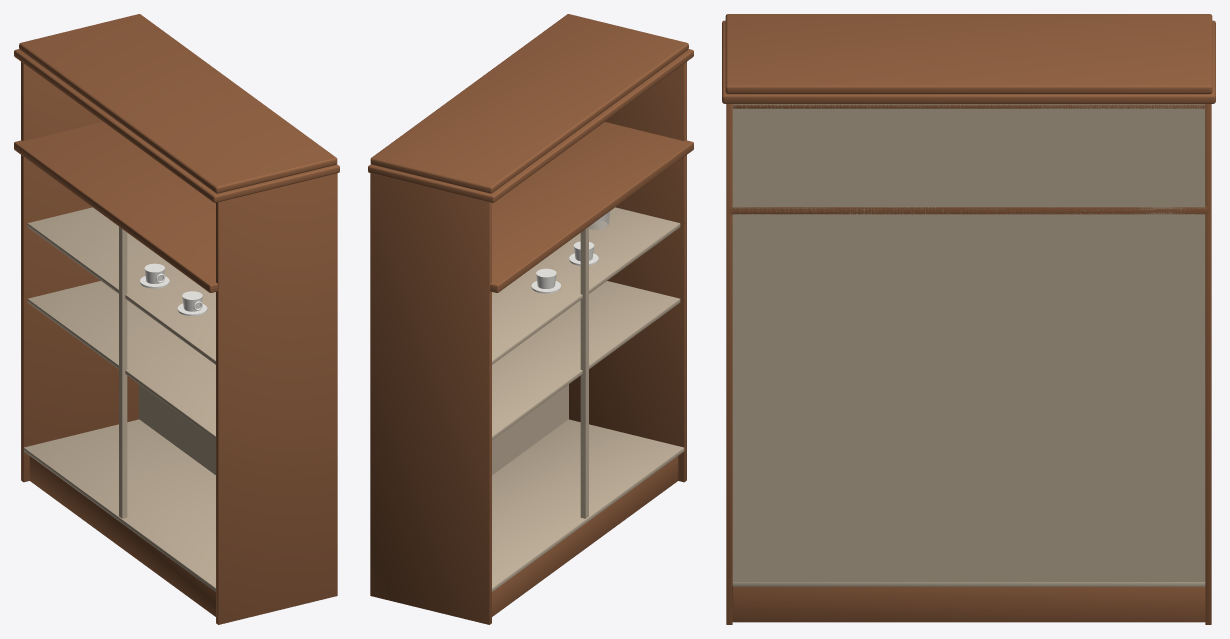
Rendered from servant_soviet.glb.
3 renders of one model, left to right at view 1: azimuth 30°, elevation 25°; view 2: azimuth 150°, elevation 25°; view 3: azimuth 270°, elevation 25°, orthographic. The views are drawn at different scales.
Parts seen in each view (by area): view 1: Body, Dishes; view 2: Body, Dishes; view 3: Body.
Boxes of the visible parts, x1,y1,x2,y2 form: Body: [14, 14, 339, 624]; Dishes: [140, 263, 207, 316]; Body: [368, 14, 693, 624]; Dishes: [531, 211, 610, 293]; Body: [722, 14, 1215, 624].
Bounding box in the file's own units: 0.65 × 2.12 × 1.76.
